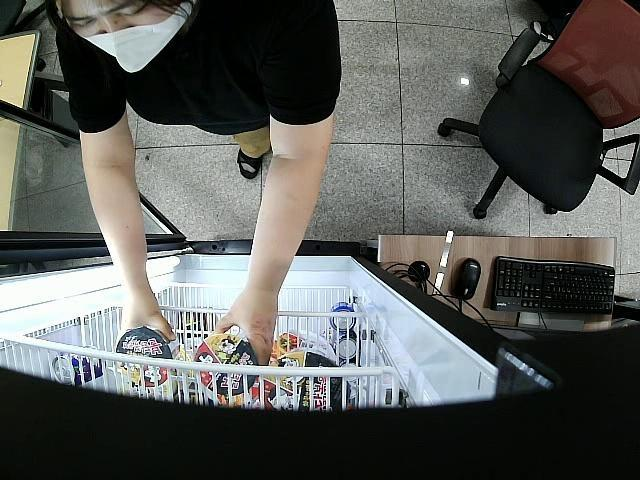08_buldak_S: (196, 333, 258, 396), (116, 327, 180, 388)
